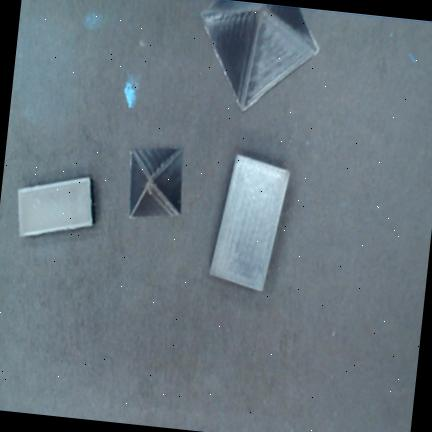Paralelepipedo: (210, 156, 291, 291), (17, 176, 95, 236)
Piramide: (201, 0, 318, 112), (129, 150, 182, 217)
